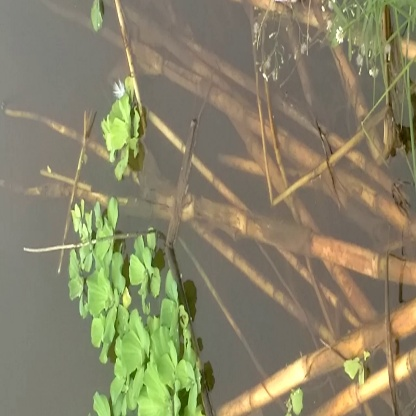branch: (194, 187, 416, 303)
